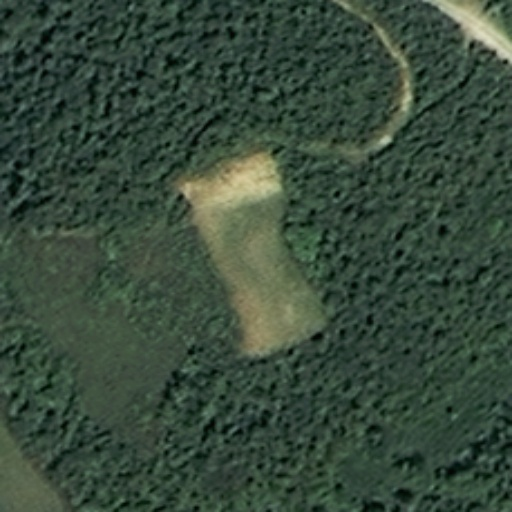landslide: (176, 153, 330, 359)
